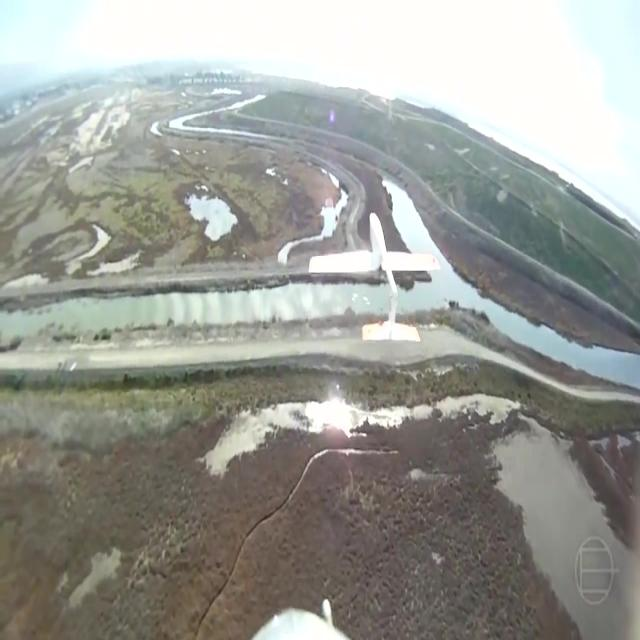iha: (307, 212, 441, 344)
